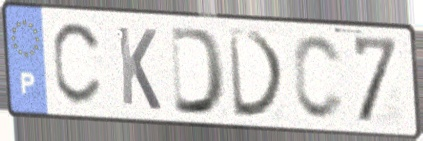7: (351, 33, 401, 127)
C: (291, 32, 348, 125), (50, 20, 105, 110)
D: (225, 26, 289, 120), (168, 24, 230, 119)
K: (114, 23, 164, 114)
